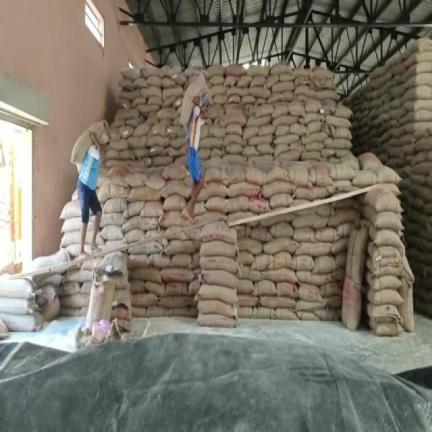Zone-Counting: (71, 121, 108, 253), (180, 74, 211, 221)
